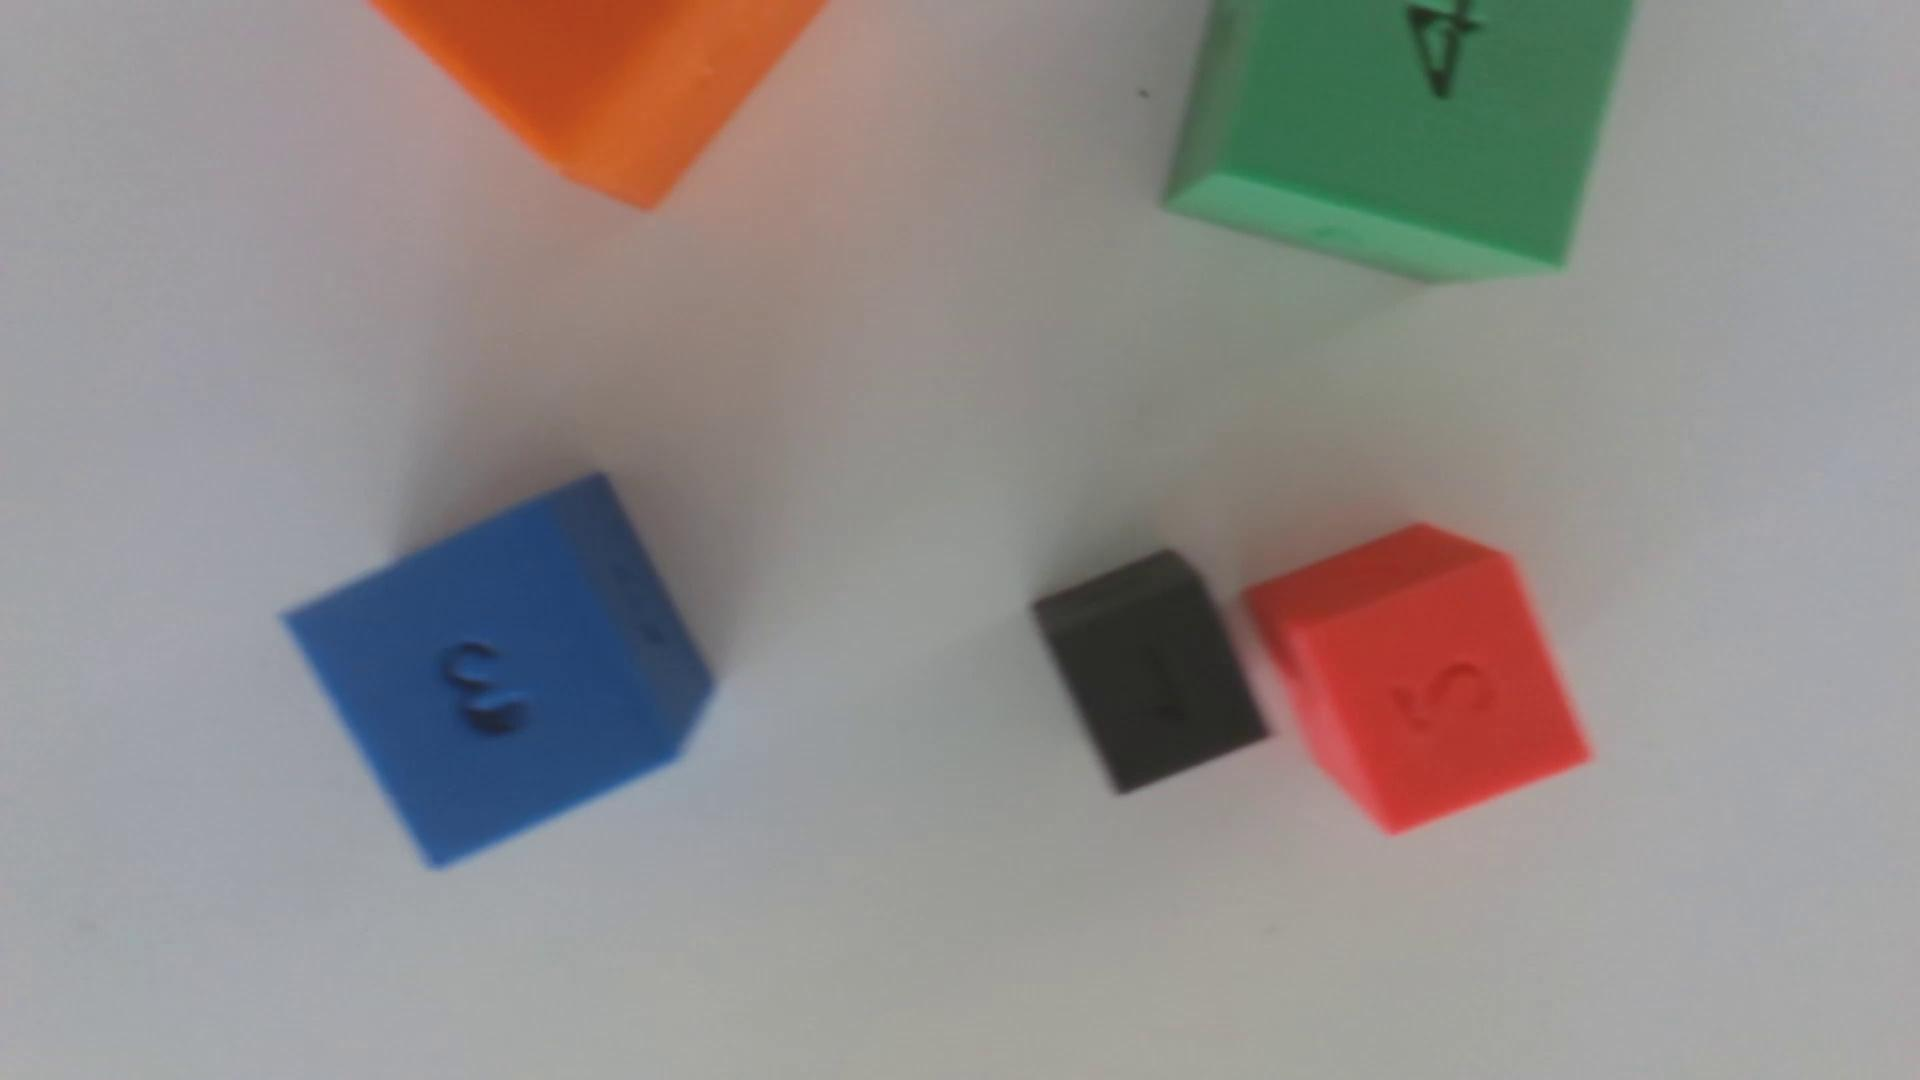black: (1033, 549, 1269, 793)
blue: (285, 473, 713, 866)
green: (1164, 0, 1633, 281)
orange: (371, 0, 825, 208)
red: (1244, 522, 1589, 832)
